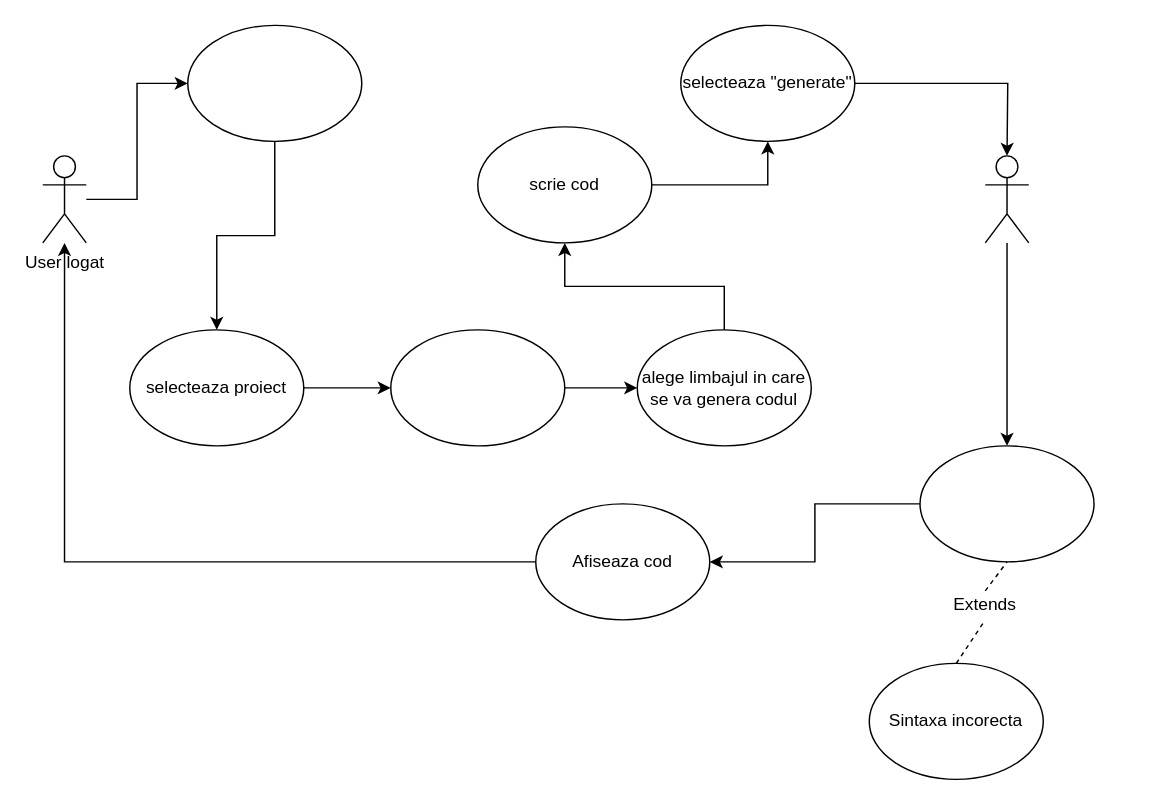
The diagram is 1160 pixels wide and 805 high, and some of its shapes have lost their labels. The shapes that lost their labels are listed below. From the top down, each one's centre as x and y in pixels, then its label:
point 274,82: main page
point 1006,198: Microserviciul ProjectManagment
point 477,387: selecteza "scrie cod"
point 1006,503: genereaza cod
